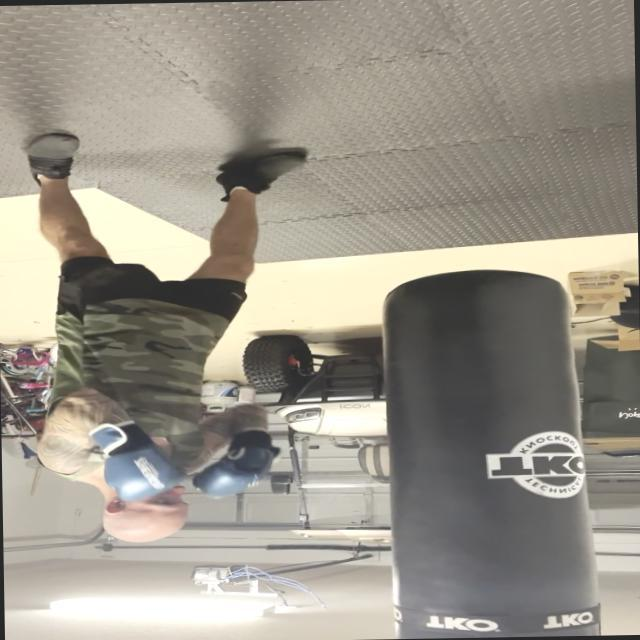cross: (586, 361, 640, 562)
uppercut: (36, 340, 305, 556)
